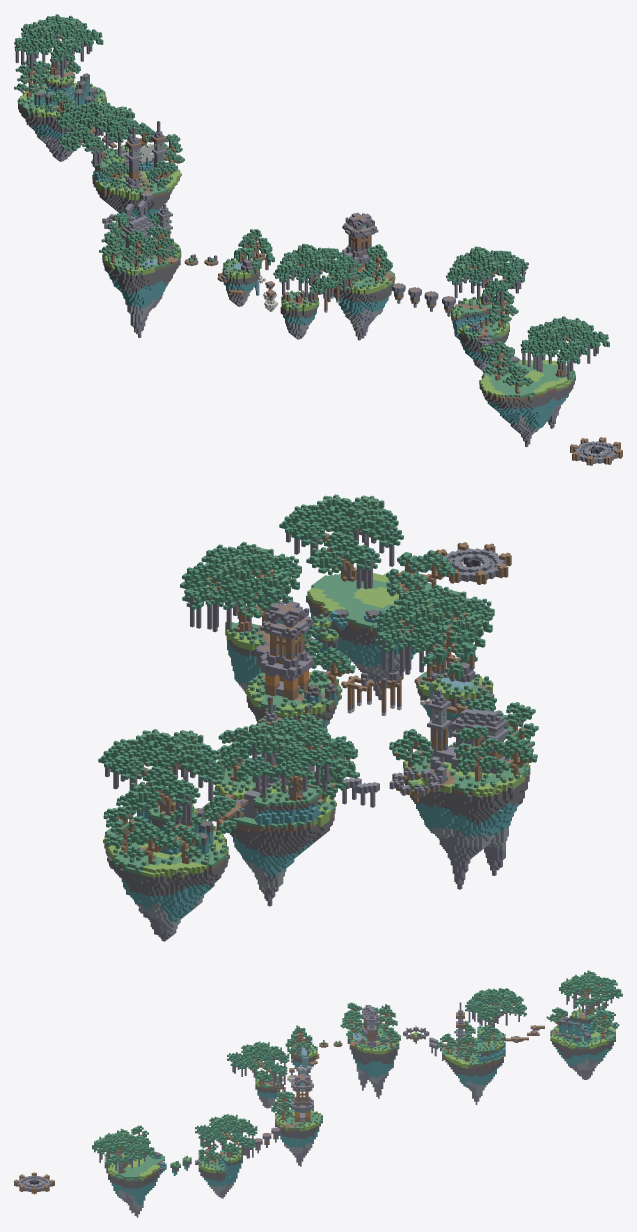
The model's file is salto.glb.
3 renders of one model, top to bottom at view 1: azimuth 30°, elevation 25°; view 2: azimuth 150°, elevation 25°; view 3: azimuth 270°, elevation 25°, orthographic. The views are drawn at different scales.
Parts seen in each view (by area): view 1: geometry_0; view 2: geometry_0; view 3: geometry_0.
Part boxes in pixels (x1,y1,x2,y2): geometry_0: [14, 14, 622, 465]; geometry_0: [98, 494, 538, 941]; geometry_0: [14, 970, 622, 1217].
Bounding box in the file's own units: 162 × 110 × 343.
